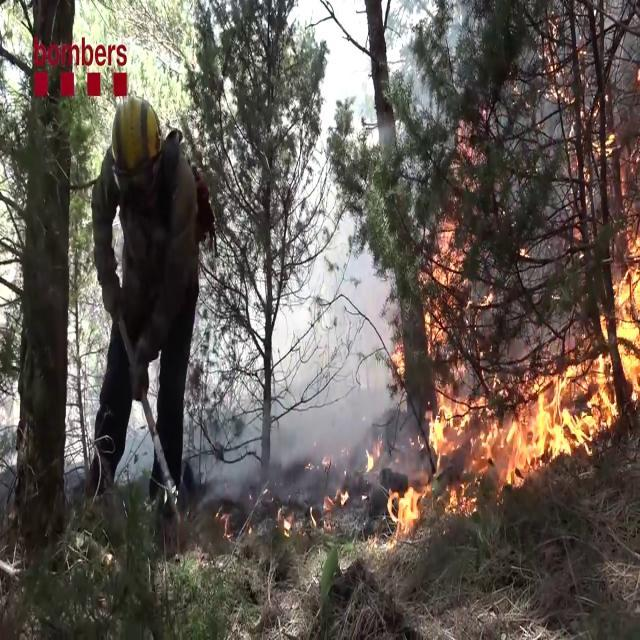Fire: (377, 218, 574, 528)
Smoke: (211, 172, 406, 489)
